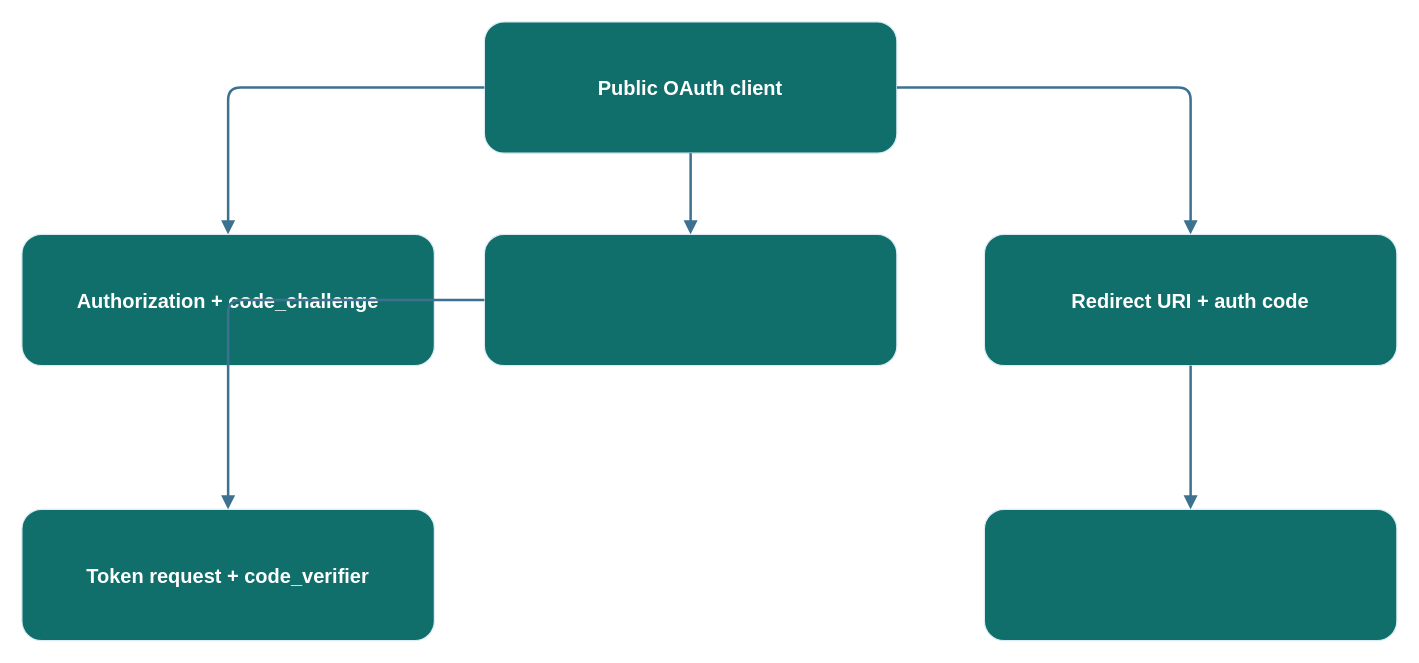
This 1419x663 diagram has some shape labels left out. The centre of each missing label's shape, as x and y in pixels:
Access token/claims: the point at 1190,574
FortiAuthenticator login: the point at 690,299
